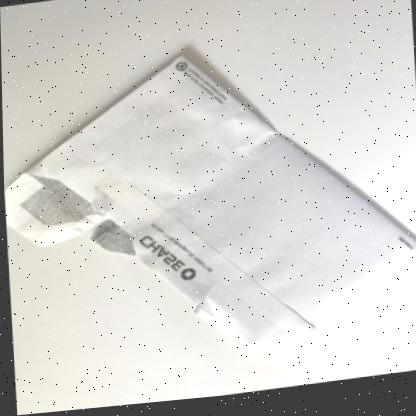Paper: (3, 59, 416, 369)
